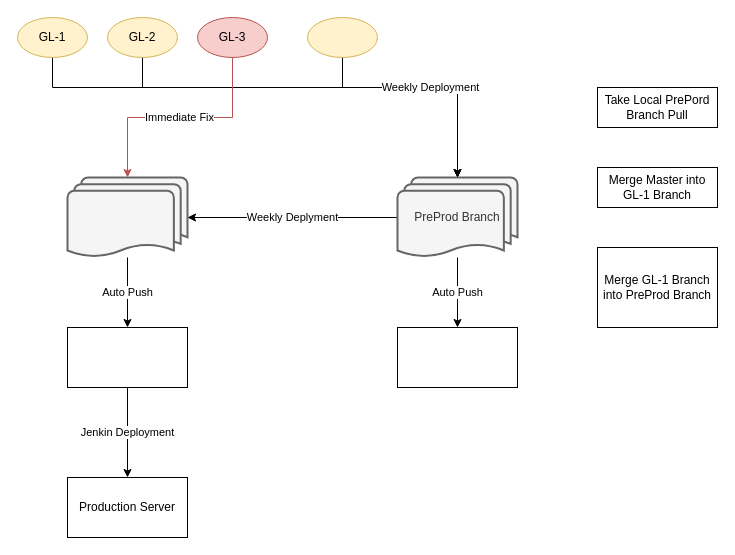
Image size: 735x555. Some labels were removed from this diagram. Here are the shapes that lost their labels. From the top down, the centre of each, then its label:
pixel 342 37: GL-4
pixel 127 217: Master Branch
pixel 127 357: PreProd Server glprepod.in
pixel 457 357: PreProd V2 Server glprepod.in
